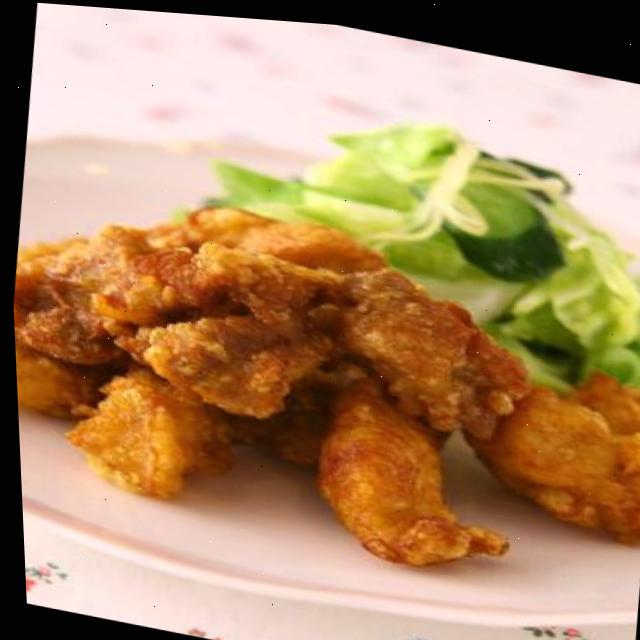鸡肉料理 含炸鸡: (4, 109, 640, 625)
